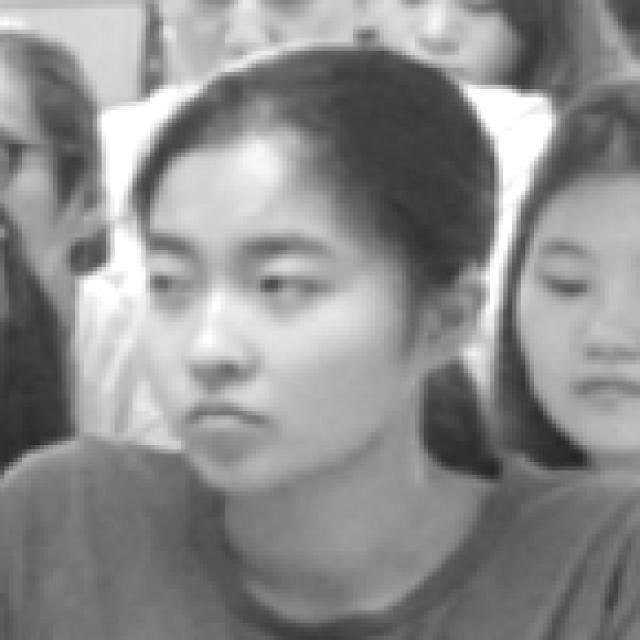Looking forward: (140, 144, 380, 496)
